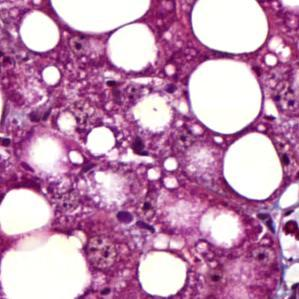steatosis: (185, 57, 264, 136), (221, 135, 283, 201), (137, 249, 190, 295), (109, 23, 159, 67), (16, 9, 59, 55)
